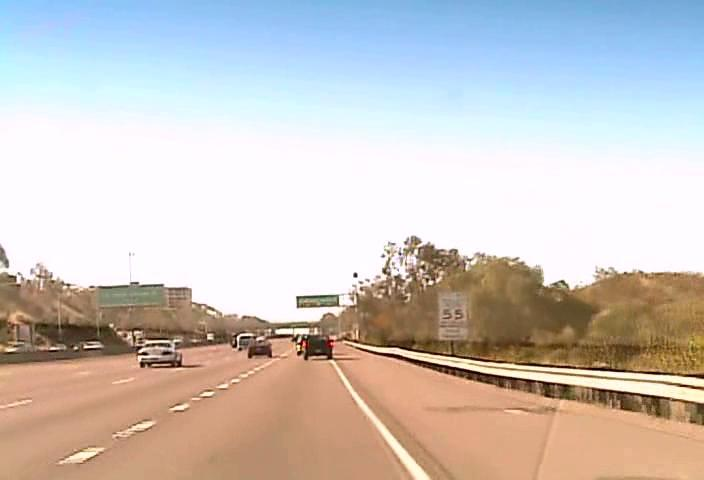truckSpeedLimit55: (437, 290, 470, 328)
